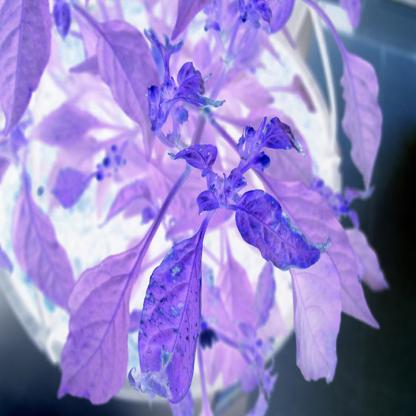Bell_pepper leaf spot: (128, 230, 206, 408), (236, 189, 335, 277), (291, 264, 345, 392), (259, 117, 311, 158), (176, 87, 225, 109)
